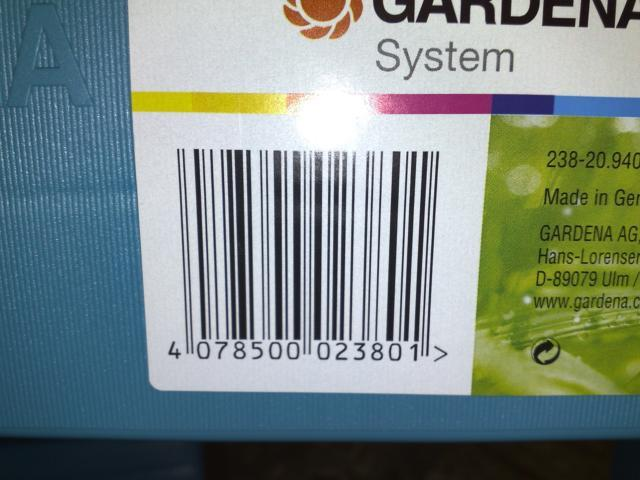Barcode: (153, 134, 466, 378)
